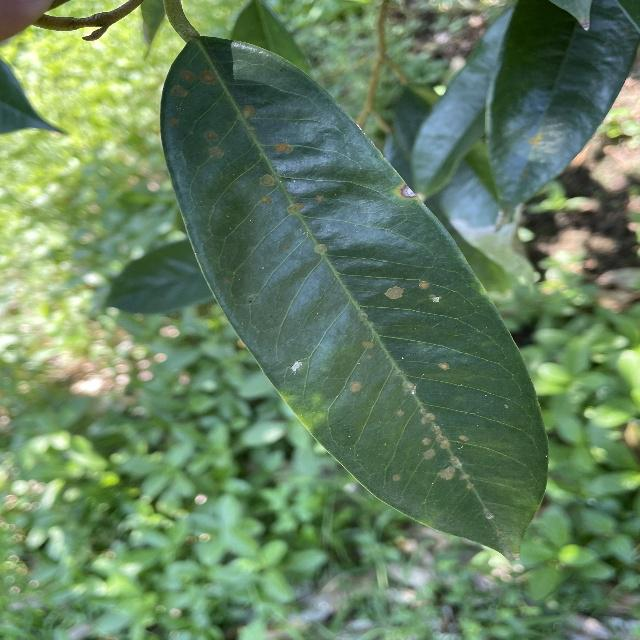Algal Leaf Spot: (151, 29, 561, 565)
